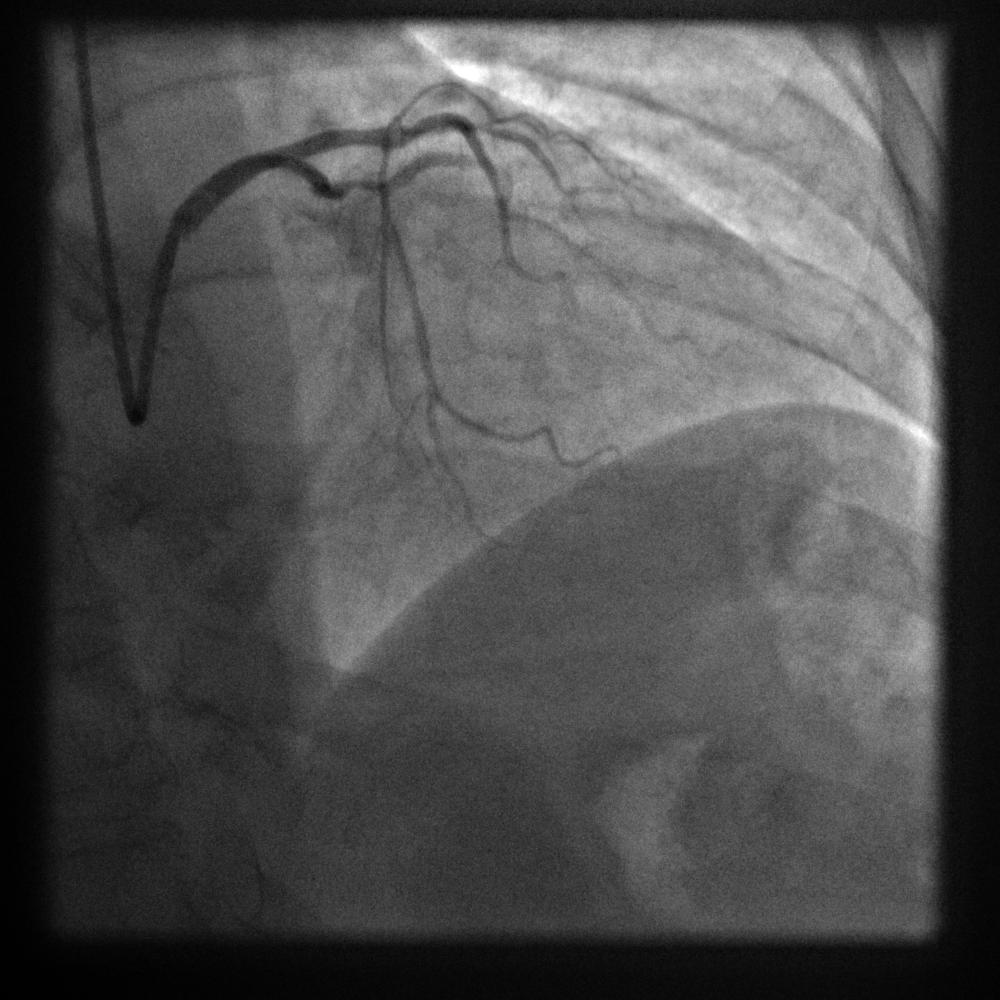Stenosis: (309, 174, 392, 205)
